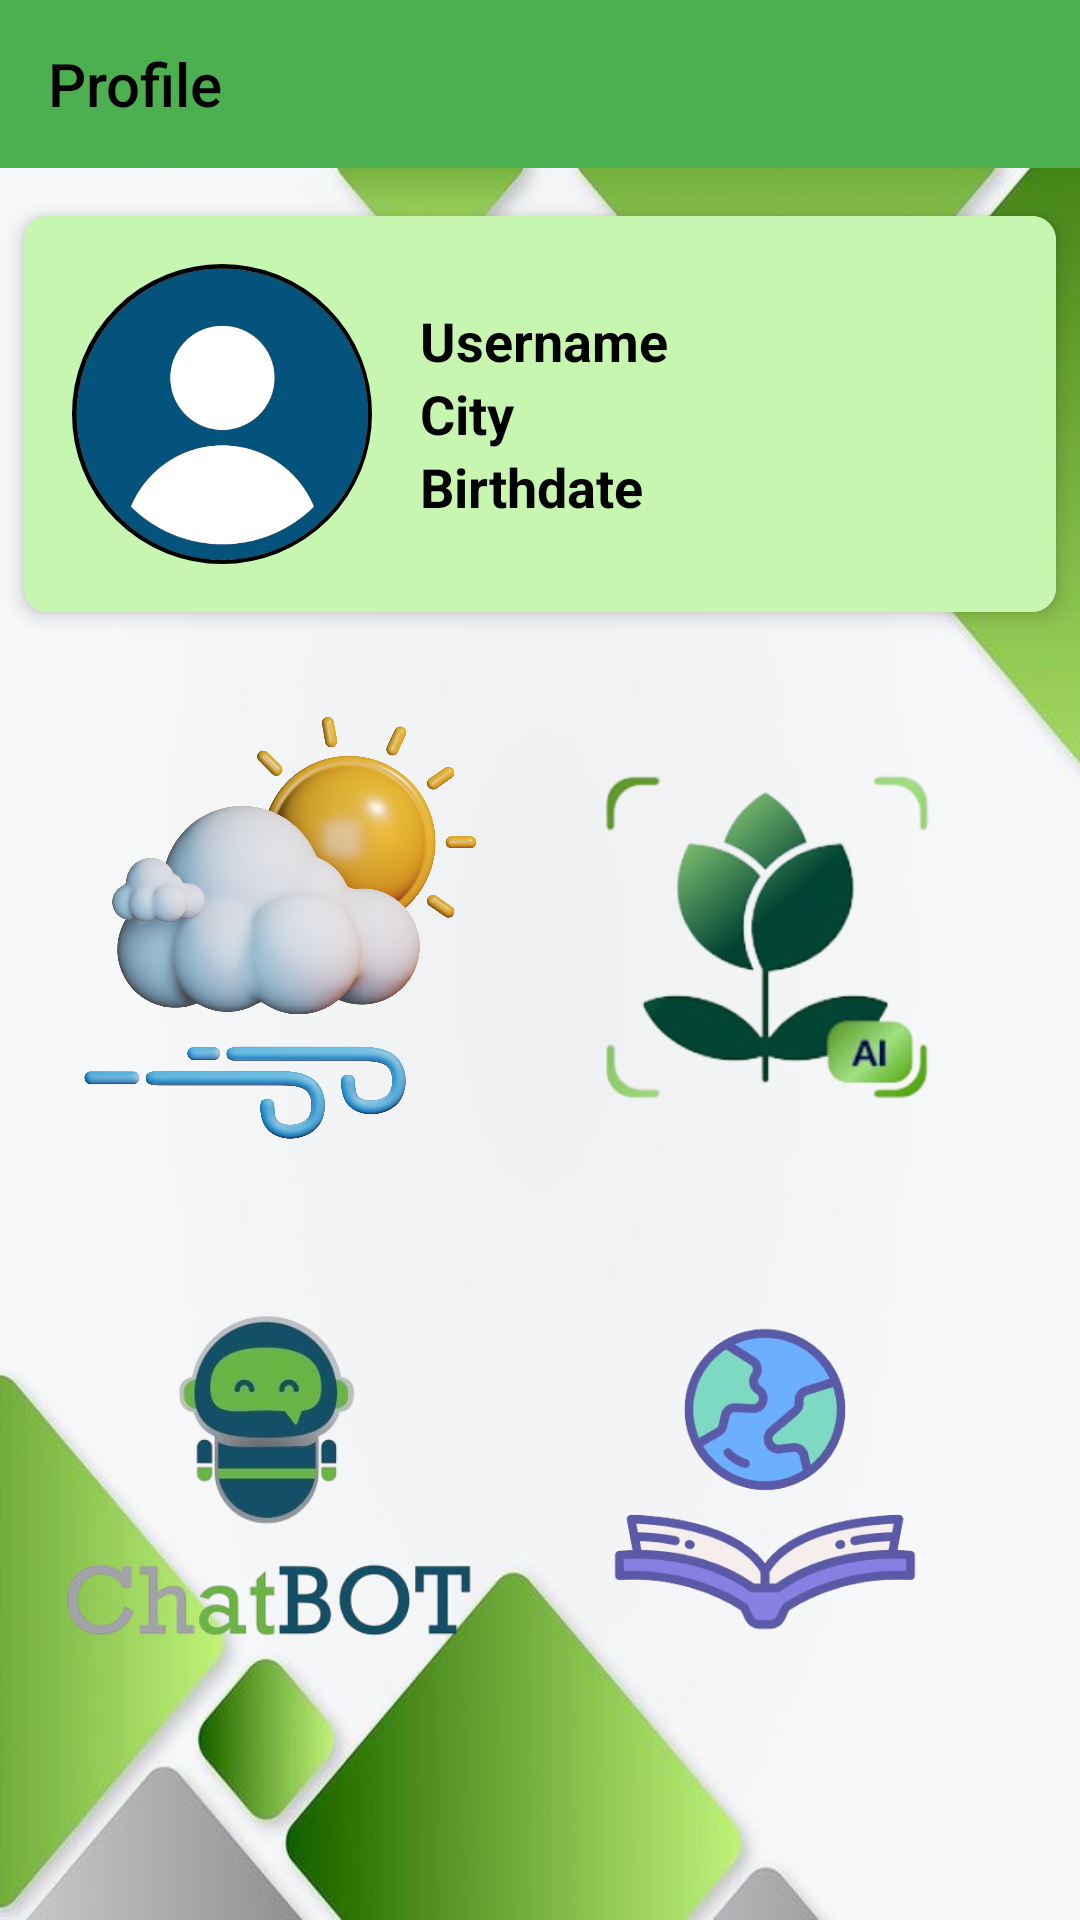

Icon click points for this 1080px×1920px phone screenshot, format (x=x, y=y):
ency: (x=764, y=1479)
leaf: (x=767, y=937)
